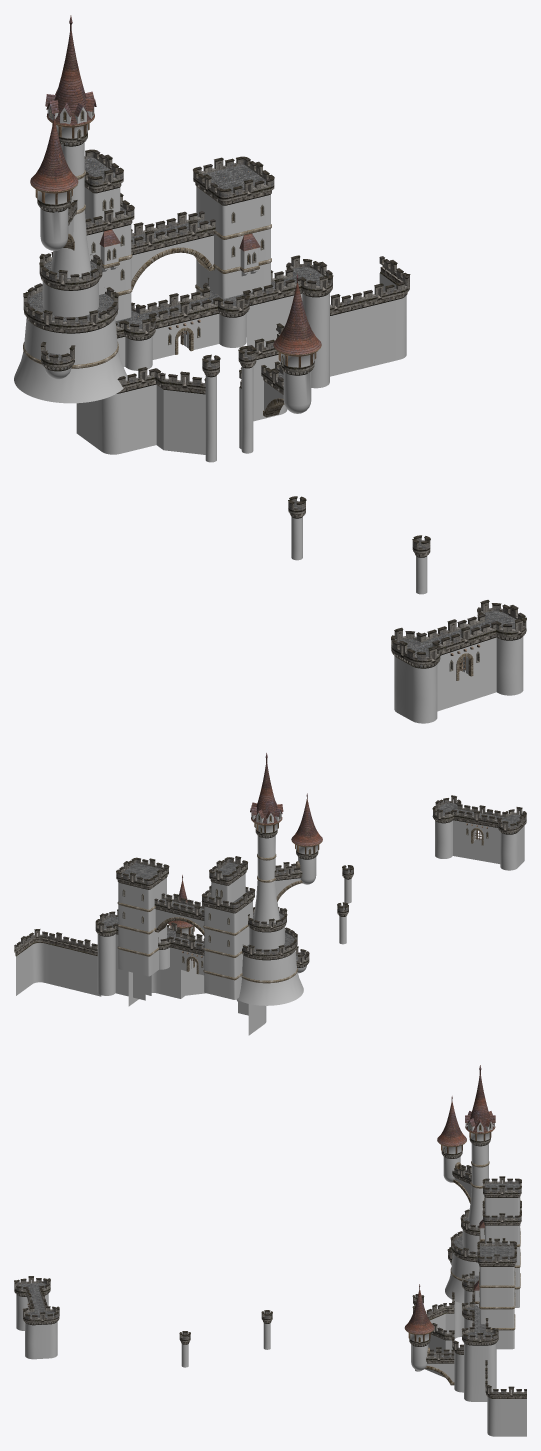
The model's file is SM_Castle_Front.FBX.
3 renders of one model, top to bottom at view 1: azimuth 30°, elevation 25°; view 2: azimuth 150°, elevation 25°; view 3: azimuth 270°, elevation 25°, orthographic. The views are drawn at different scales.
Visible parts, largest first — view 1: SM_Castle_Front; view 2: SM_Castle_Front; view 3: SM_Castle_Front.
Part boxes in pixels (box(x1,y1,x2,y2)): SM_Castle_Front: box(14, 15, 526, 723); SM_Castle_Front: box(14, 753, 526, 1035); SM_Castle_Front: box(14, 1065, 526, 1436).
Size of the model in its own units: 7250 by 12661 by 7287.
